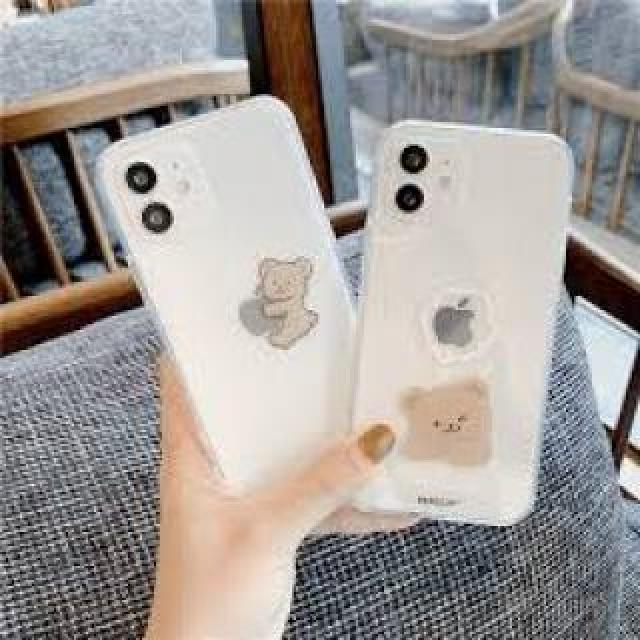smart phone: (89, 74, 338, 574), (357, 107, 568, 538)
